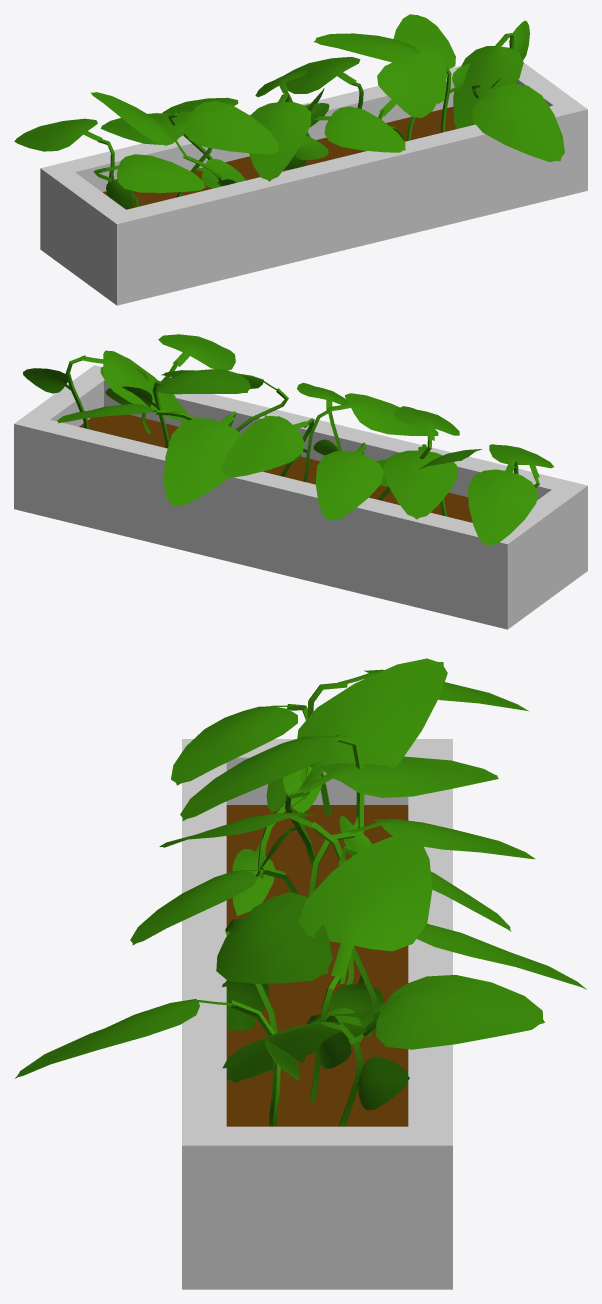
File: Plants.glb
3 renders of one model, top to bottom at view 1: azimuth 30°, elevation 25°; view 2: azimuth 150°, elevation 25°; view 3: azimuth 270°, elevation 25°, orthographic. The views are drawn at different scales.
Parts seen in each view (by area): view 1: Cube.010, BézierCurve.001; view 2: Cube.010, BézierCurve.001; view 3: Cube.010, BézierCurve.001.
Part boxes in pixels (x1,y1,x2,y2): Cube.010: [40, 62, 587, 305]; BézierCurve.001: [14, 14, 564, 209]; Cube.010: [14, 365, 587, 629]; BézierCurve.001: [23, 334, 553, 546]; Cube.010: [182, 739, 452, 1289]; BézierCurve.001: [15, 658, 586, 1126].
Bounding box in the file's own units: 13.66 × 4.1 × 7.84.
